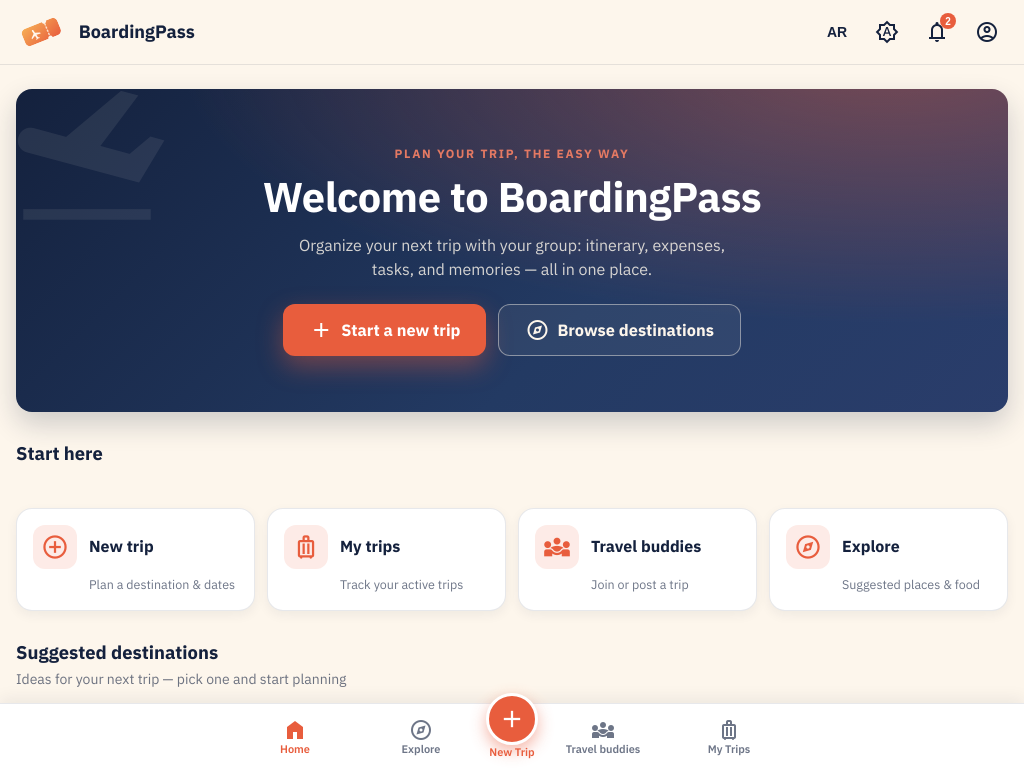
Test: US-015 Notification center › shows an unread badge and lists notifications (AC4)
This screenshot has width=1024, height=768.
Click the button named "2 unread". click: [937, 32]
box: [916, 11, 958, 53]
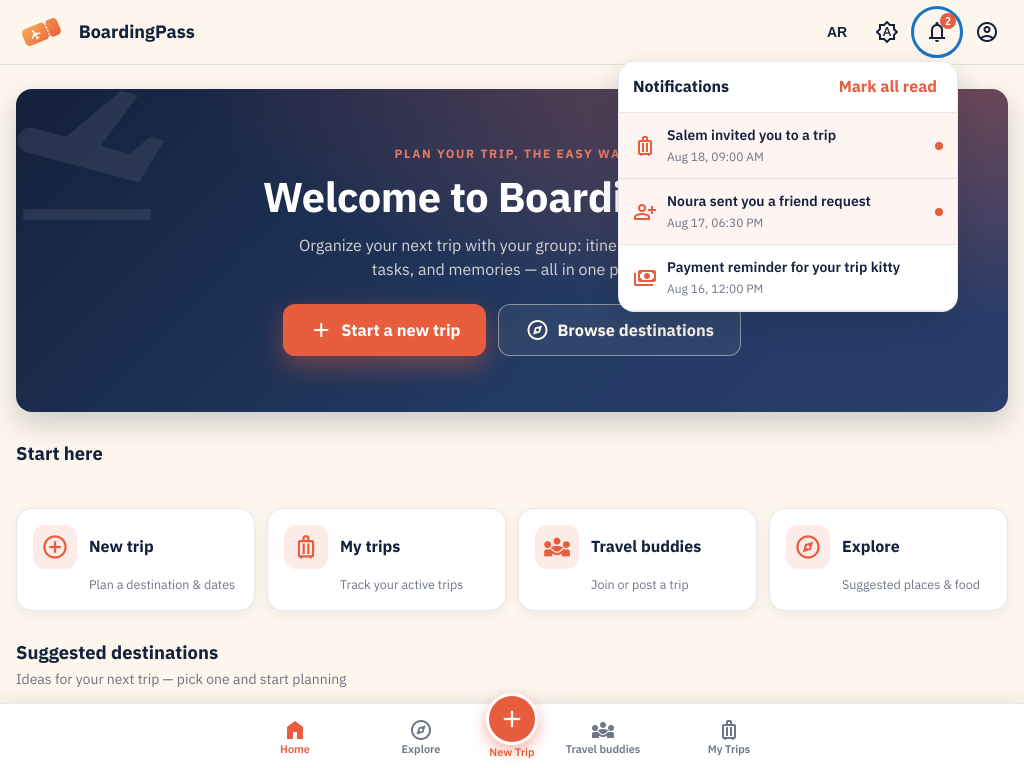
Check: the dialog "Notifications" is shown, box [618, 61, 958, 312]
Check: the text "Salem invited you to a trip" is shown, box [667, 125, 836, 146]
